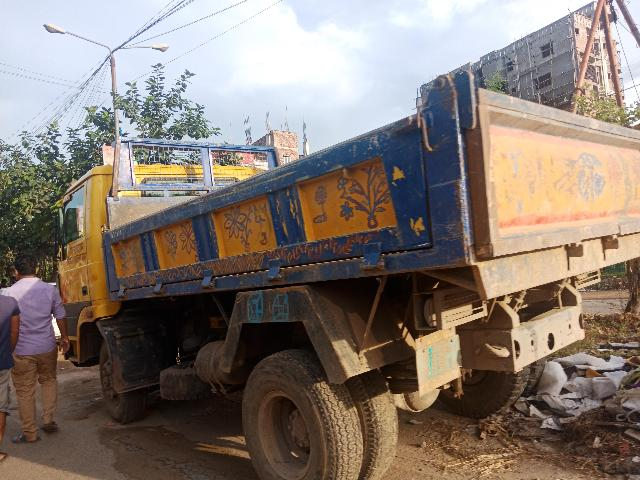truck: (32, 63, 640, 467)
